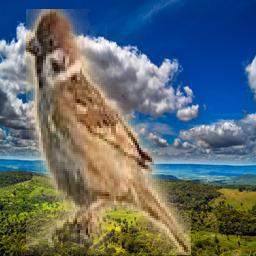Sparrow: (27, 9, 192, 255)
